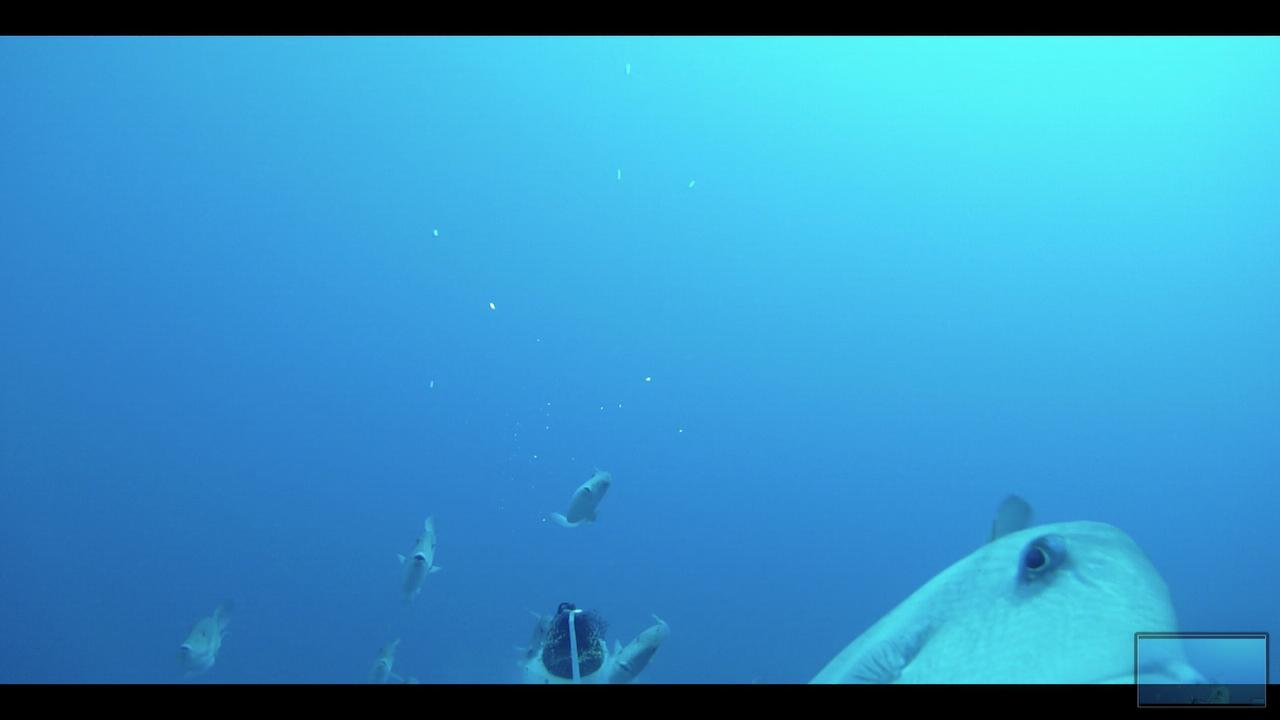balistes: (804, 516, 1221, 679), (162, 591, 253, 674), (386, 508, 453, 602), (543, 462, 613, 526)
